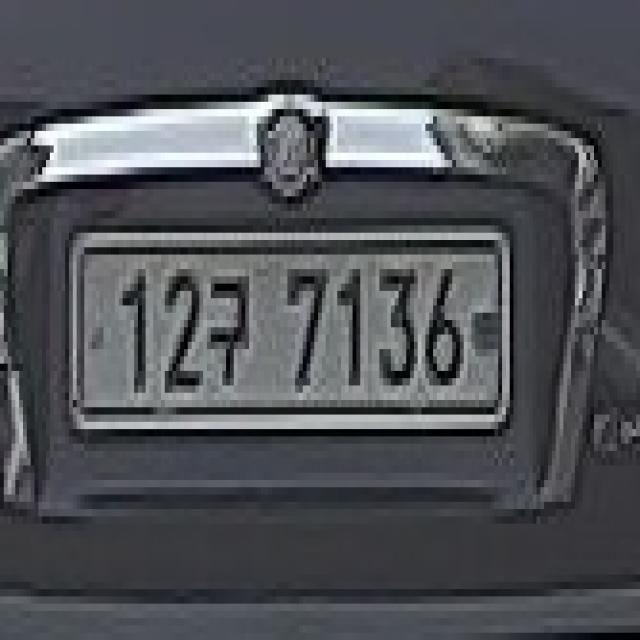1: (330, 255, 376, 400), (115, 262, 157, 400)
2: (161, 269, 207, 400)
3: (372, 262, 422, 400)
6: (422, 262, 479, 407)
7: (280, 262, 333, 407)
gu: (207, 269, 257, 400)
license_plate: (61, 218, 518, 444)
